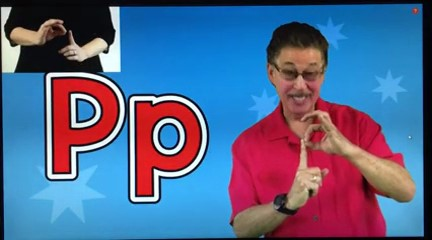P: (281, 101, 350, 217)
